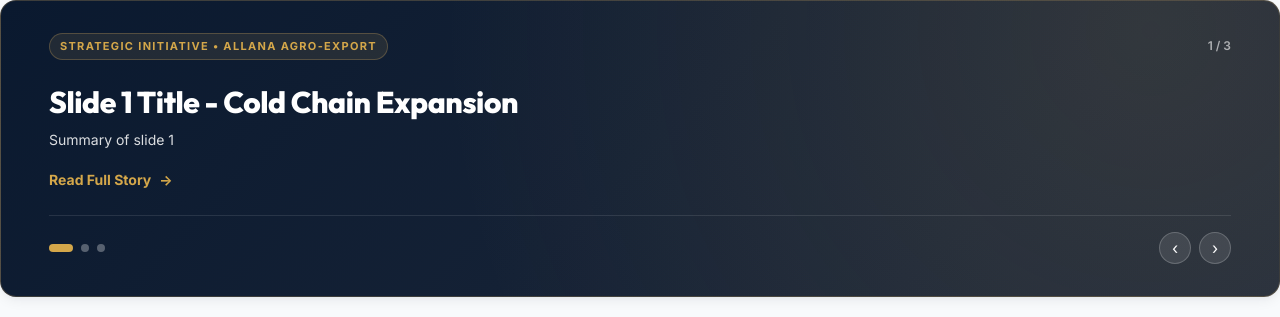
HeroSlider component › navigates directly to a slide when clicking dot indicator
Click the tab with test id "slide-dot-2" at (101, 248), box [97,244,105,252]
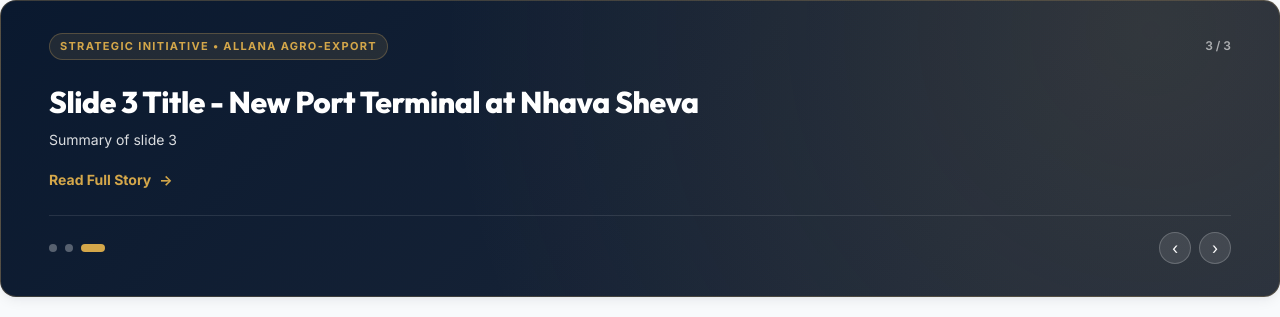
Result: the heading "Slide 3 Title - New Port Terminal at Nhava Sheva" is shown at [49,82,699,120]
Result: the text with test id "slide-counter" reads "3 / 3" at [1205,37,1231,55]
Click the tab with test id "slide-dot-0" at (53, 248), box [49,244,57,252]
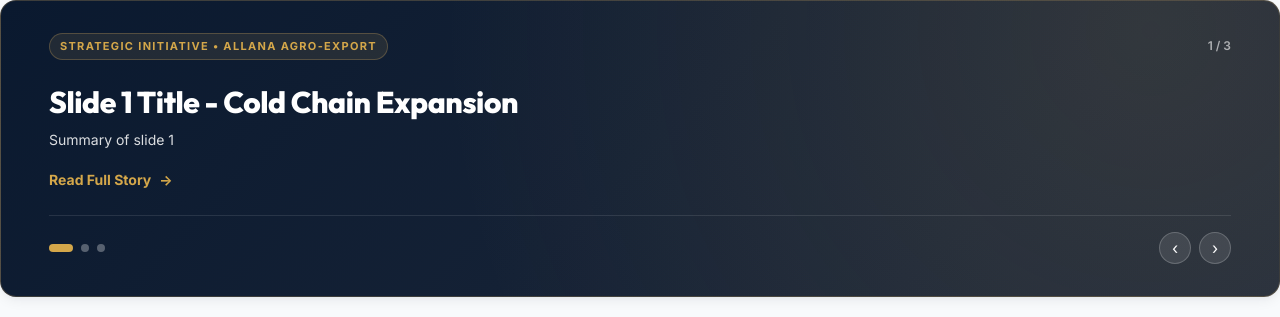
Result: the heading "Slide 1 Title - Cold Chain Expansion" is shown at [49,82,518,120]
Result: the text with test id "slide-counter" reads "1 / 3" at [1208,37,1231,55]
